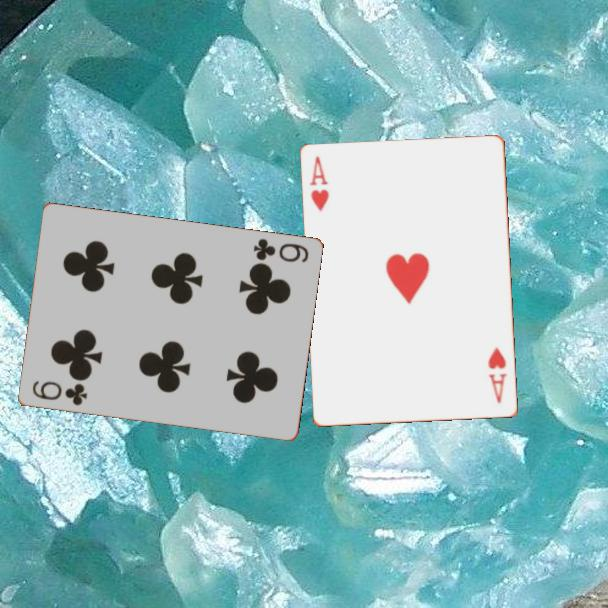c06: (28, 378, 90, 409), (250, 235, 311, 265)
h01: (484, 344, 510, 406), (306, 153, 332, 215)
